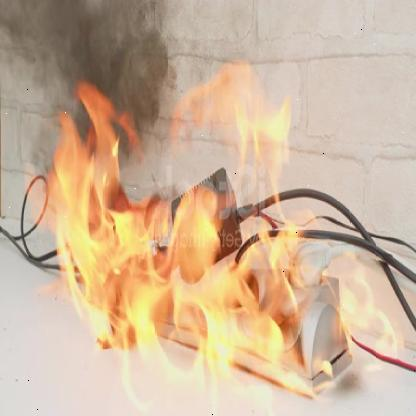fire: (17, 65, 398, 407)
smoke: (4, 0, 177, 159)
